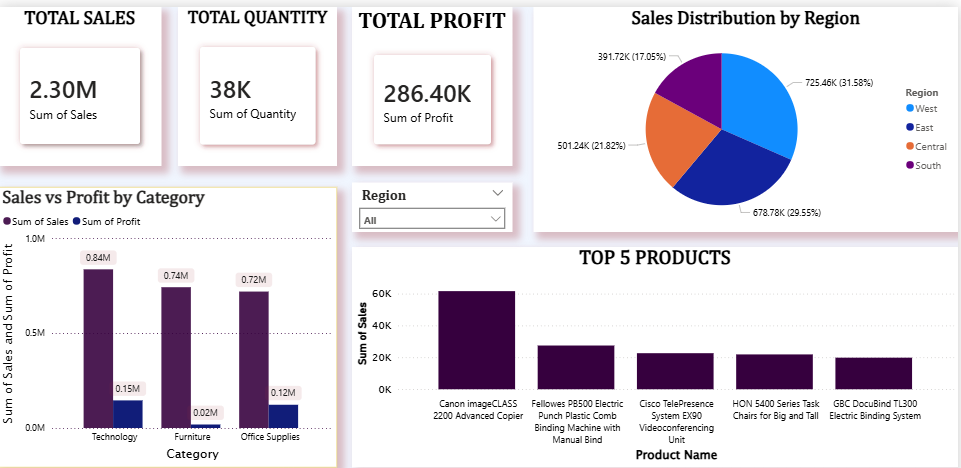

What the dashboard file says about the page in this screenshot:
{"tool":"powerbi","page":{"name":"Page 1","canvas":[1280,720],"ordinal":0},"visuals":[{"type":"clusteredColumnChart","title":"Sales vs Profit by Category","fields":{"Category":["Sample - Superstore.Category"],"Y":["Sum(Sample - Superstore.Sales)","Sum(Sample - Superstore.Profit)"]},"box":[0,240,452,374],"z":0},{"type":"pieChart","title":"Sales Distribution by Region","fields":{"Category":["Sample - Superstore.Region"],"Y":["Sum(Sample - Superstore.Sales)"]},"box":[714,0,566,300],"z":1000},{"type":"columnChart","title":"TOP 5 PRODUCTS","fields":{"Category":["Sample - Superstore.Product Name"],"Y":["Sum(Sample - Superstore.Sales)"]},"box":[472,320,808,294],"z":2000},{"type":"cardVisual","title":"TOTAL SALES","fields":{"Data":["Sum(Sample - Superstore.Sales)"]},"box":[0,0,218,212],"z":3000},{"type":"cardVisual","title":"TOTAL PROFIT","fields":{"Data":["Sum(Sample - Superstore.Profit)"]},"box":[472,0,214,212],"z":4000},{"type":"cardVisual","title":"TOTAL QUANTITY ","fields":{"Data":["Sum(Sample - Superstore.Quantity)"]},"box":[239,0,212,212],"z":5000},{"type":"slicer","fields":{"Values":["Sample - Superstore.Region"]},"box":[472,234,214,66],"z":6000}]}

Visuals, with their boxes on the page's 1280x720 design canvas (x1, y1, x2, y2). These are canvas units, not pixel positions in the 961x468 screenshot, which may show the page scaled, cropped or inside an application window:
"Sales vs Profit by Category" clusteredColumnChart: bbox(0, 240, 452, 614)
"Sales Distribution by Region" pieChart: bbox(714, 0, 1280, 300)
"TOP 5 PRODUCTS" columnChart: bbox(472, 320, 1280, 614)
"TOTAL SALES" cardVisual: bbox(0, 0, 218, 212)
"TOTAL PROFIT" cardVisual: bbox(472, 0, 686, 212)
"TOTAL QUANTITY " cardVisual: bbox(239, 0, 451, 212)
slicer - Sample - Superstore.Region: bbox(472, 234, 686, 300)
